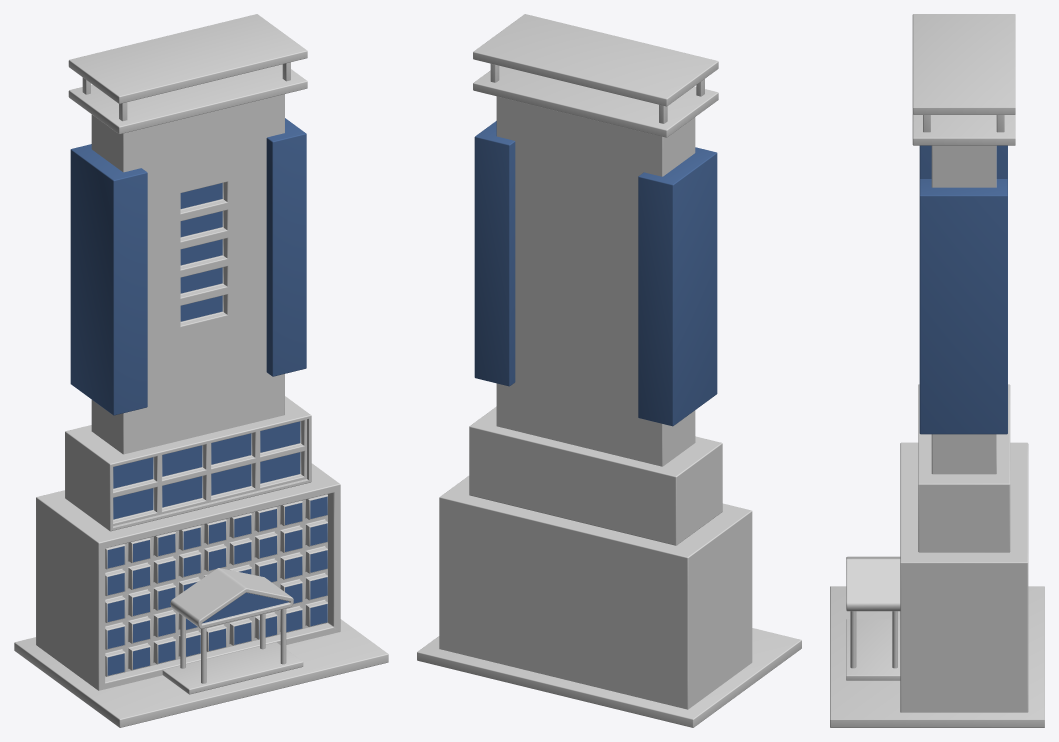
File: building1.gltf
The picture shows the model from 3 angles, left to right: view 1: azimuth 30°, elevation 25°; view 2: azimuth 150°, elevation 25°; view 3: azimuth 270°, elevation 25°; orthographic projection. The views are drawn at different scales.
Visible parts, largest first — view 1: 空白_9; view 2: 空白_9; view 3: 空白_9.
Part boxes in pixels (<box>): 空白_9: <box>14,14,388,727</box>; 空白_9: <box>417,14,801,727</box>; 空白_9: <box>830,14,1044,727</box>.
Size of the model in its own units: 7.56 by 15.92 by 5.14.
